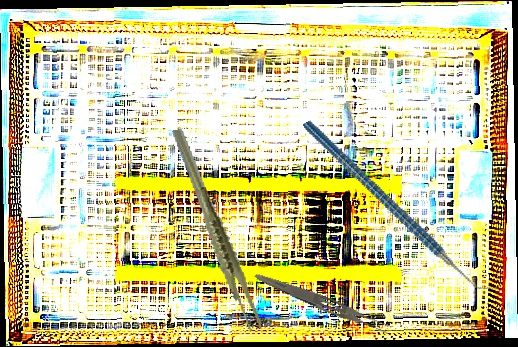Chopper: (302, 78, 500, 335)
Dressing Forceps: (251, 270, 395, 338)
Tissue Forceps: (170, 120, 264, 340)
